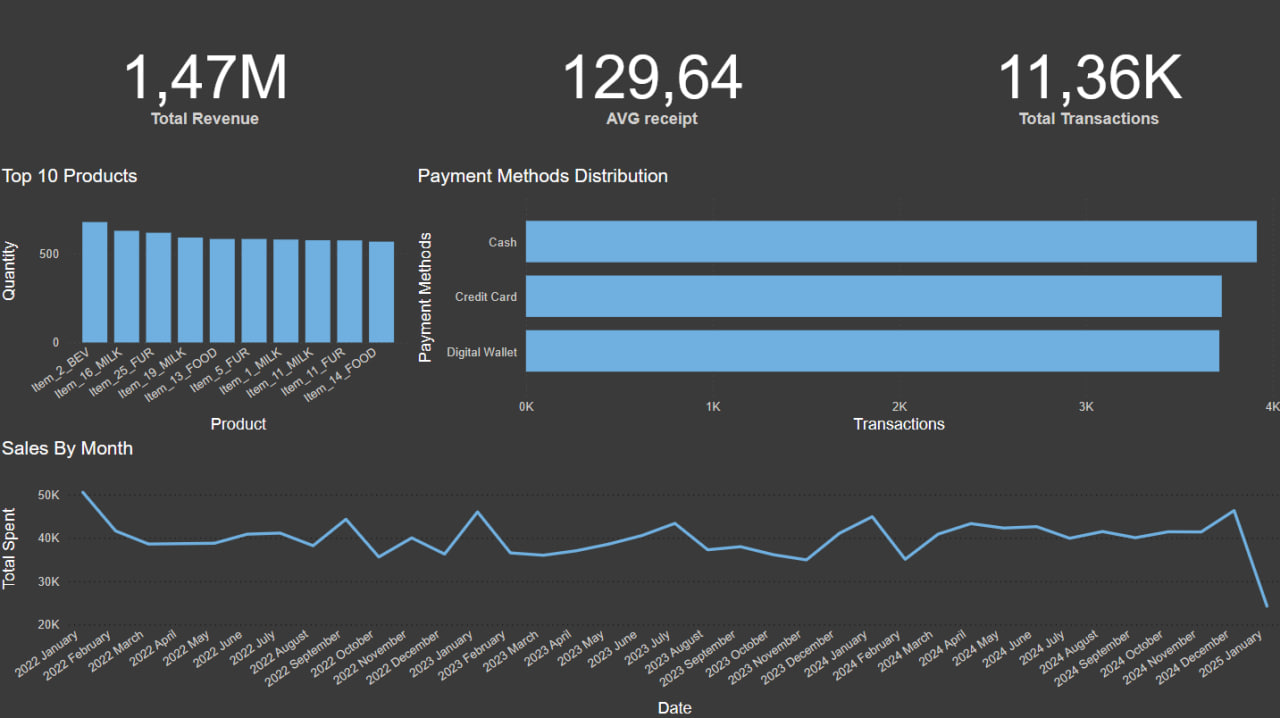

Layout of this report page (visuals, bound fields, positions):
{"tool":"powerbi","page":{"name":"Page 1","canvas":[1280,720],"ordinal":0},"visuals":[{"type":"lineChart","title":"Sales By Month","fields":{"Y":["Sum(public retail_store_sales.total_spent)"],"Category":["public retail_store_sales.transaction_date.Variation.Date Hierarchy.Year","public retail_store_sales.transaction_date.Variation.Date Hierarchy.Month"]},"box":[0,437.7,1280.3,282.7],"z":0},{"type":"clusteredColumnChart","title":"Top 10 Products","fields":{"Category":["public retail_store_sales.item"],"Y":["Sum(public retail_store_sales.quantity)"]},"box":[0,167.4,595.5,270.3],"z":1000},{"type":"card","fields":{"Values":["Sum(public retail_store_sales.total_revenue)"]},"box":[0,0,413,167.4],"z":2000},{"type":"card","fields":{"Values":["Avg(public retail_store_sales.total_spent)"]},"box":[413,0,474.8,167.4],"z":3000},{"type":"clusteredBarChart","title":"Payment Methods Distribution","fields":{"Category":["public retail_store_sales.payment_method"],"Y":["CountNonNull(public retail_store_sales.transaction_id)"]},"box":[595.5,167.4,684.7,270.3],"z":4000},{"type":"card","fields":{"Values":["CountNonNull(public retail_store_sales.transaction_id)"]},"box":[888,0,392,167],"z":5000}]}

Visuals, with their boxes in screenshot pixels (x1, y1, x2, y2), scaled from the page's 1280x720 canvas onto the 1280x718 screenshot:
"Sales By Month" lineChart: region(0, 436, 1279, 717)
"Top 10 Products" clusteredColumnChart: region(0, 167, 596, 436)
card - Sum(public retail_store_sales.total_revenue): region(0, 0, 413, 167)
card - Avg(public retail_store_sales.total_spent): region(413, 0, 888, 167)
"Payment Methods Distribution" clusteredBarChart: region(596, 167, 1279, 436)
card - CountNonNull(public retail_store_sales.transaction_id): region(888, 0, 1279, 167)
